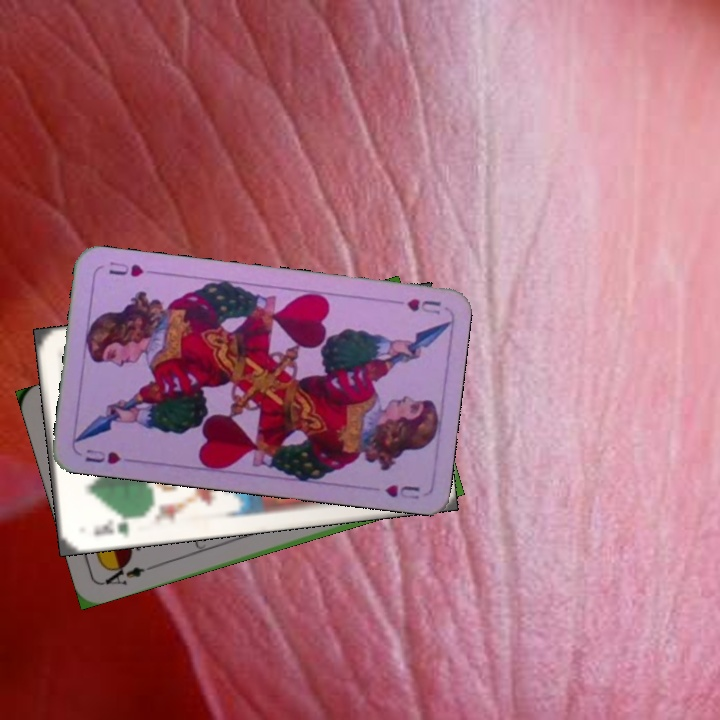EA: (99, 558, 147, 588)
GK: (90, 513, 140, 540)
HU: (387, 294, 443, 317), (81, 445, 123, 467)
